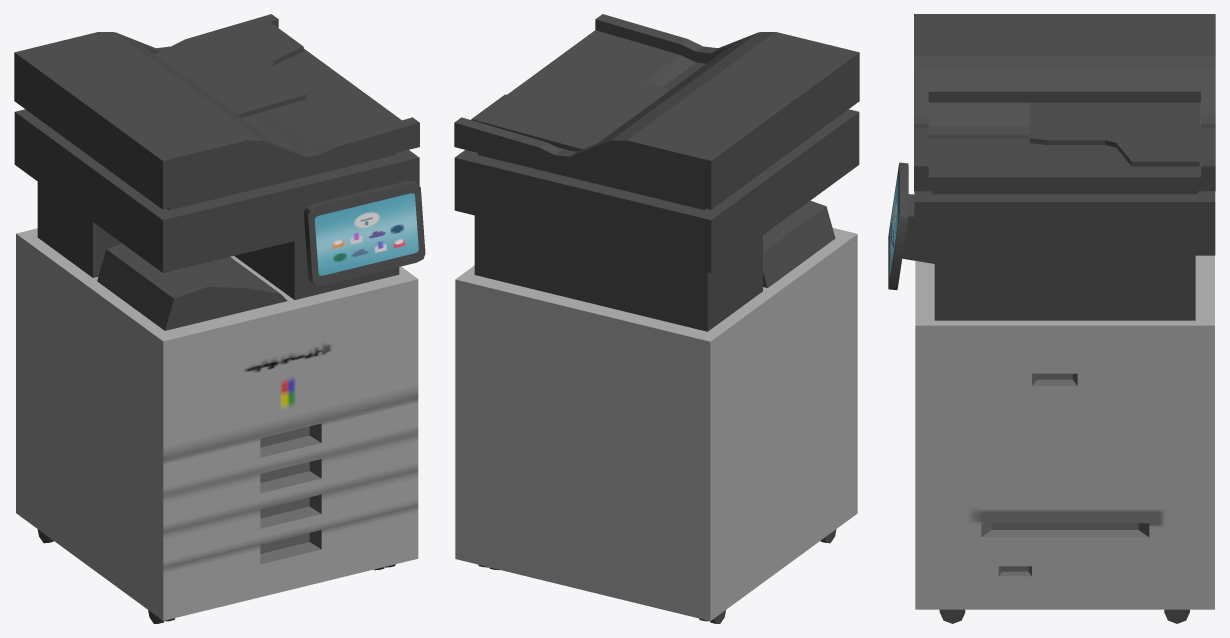
Rendered from copy machine.fbx.
3 views of the same model, side by side, from view 1: azimuth 30°, elevation 25°; view 2: azimuth 150°, elevation 25°; view 3: azimuth 270°, elevation 25° (orthographic).
Parts seen in each view (by area): view 1: copy machine; view 2: copy machine; view 3: copy machine.
Boxes of the visible parts, x1,y1,x2,y2 form: copy machine: (14, 14, 425, 623); copy machine: (454, 14, 859, 623); copy machine: (888, 14, 1215, 623).
Bounding box in the file's own units: 1.01 × 1.79 × 1.09.
Materials: 1 (1 with a texture image).
